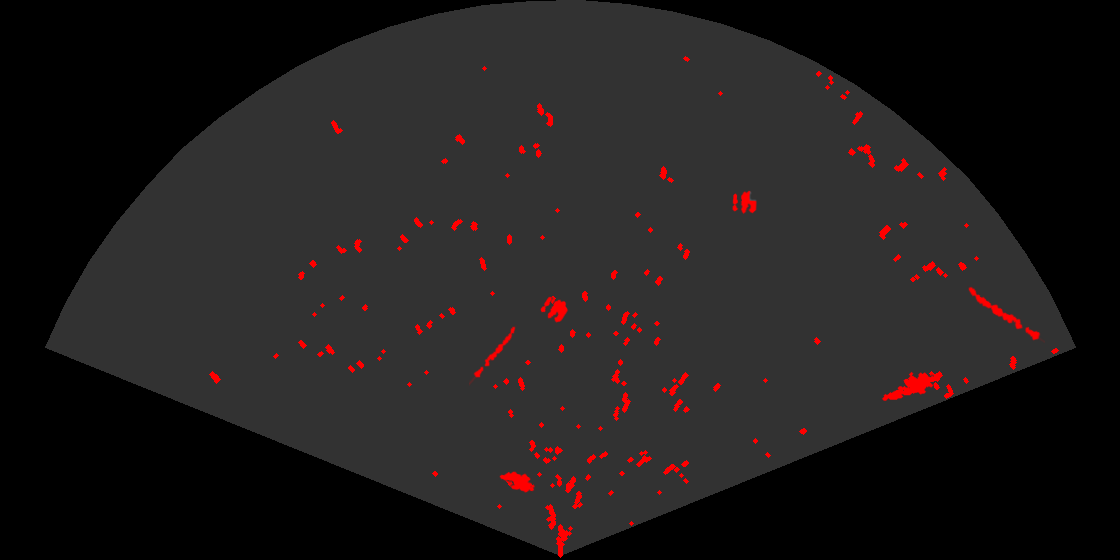AUV: (498, 470, 537, 494)
ball: (539, 295, 570, 324), (731, 189, 758, 216)
chain: (967, 285, 1045, 344), (469, 324, 518, 386)
frogman: (880, 370, 934, 402)
